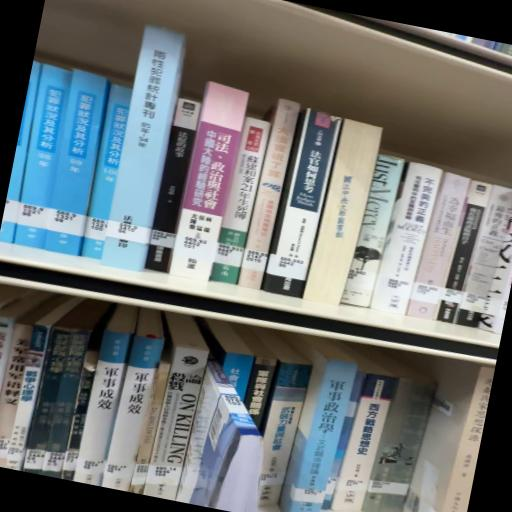backward: (305, 121, 385, 313)
book: (170, 85, 254, 290), (267, 109, 346, 304), (278, 358, 361, 512), (210, 114, 275, 290), (409, 172, 477, 328), (103, 333, 167, 494), (73, 328, 133, 488)
